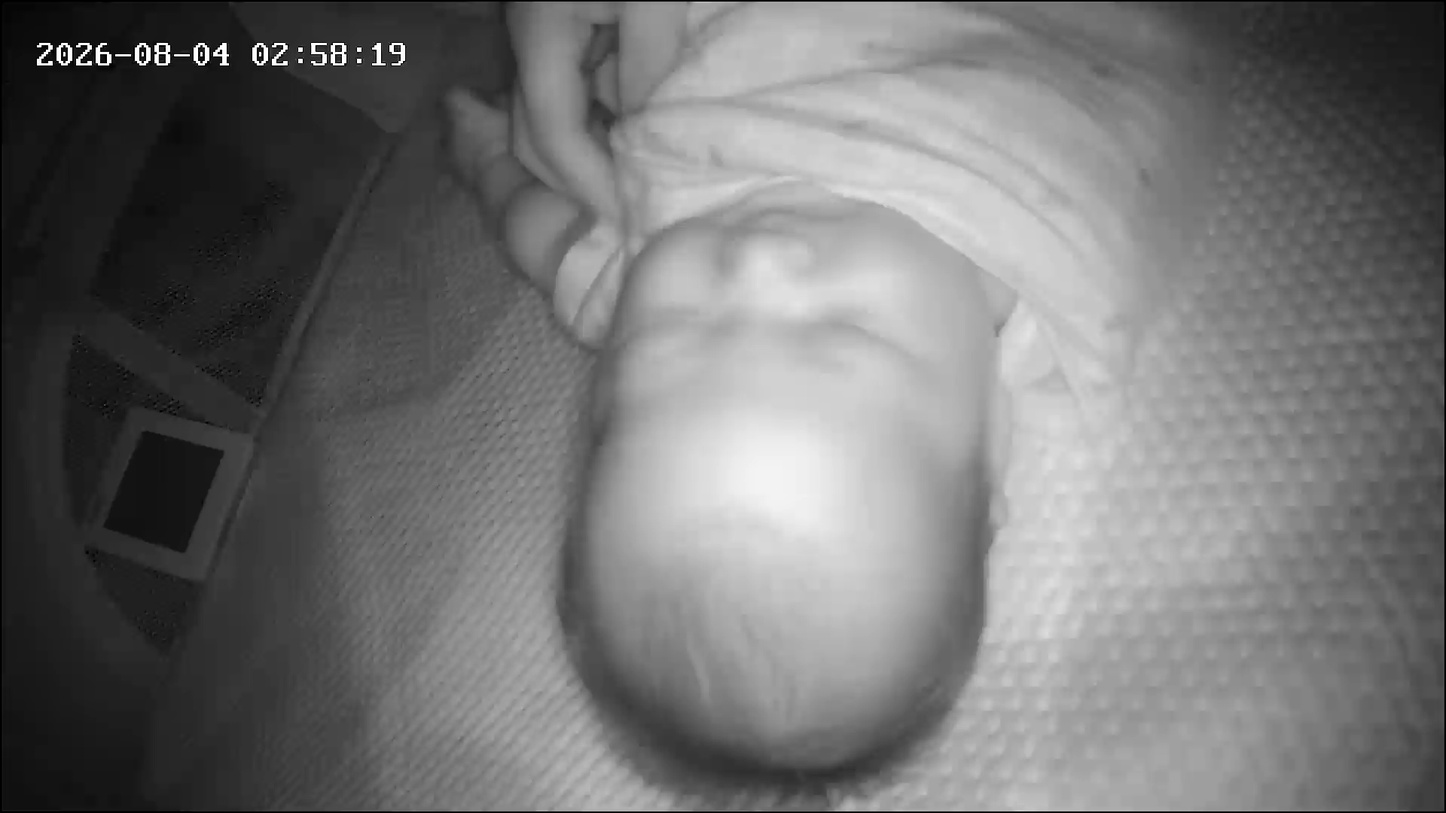baby: (467, 1, 1259, 802)
baby_face: (565, 192, 1020, 792)
